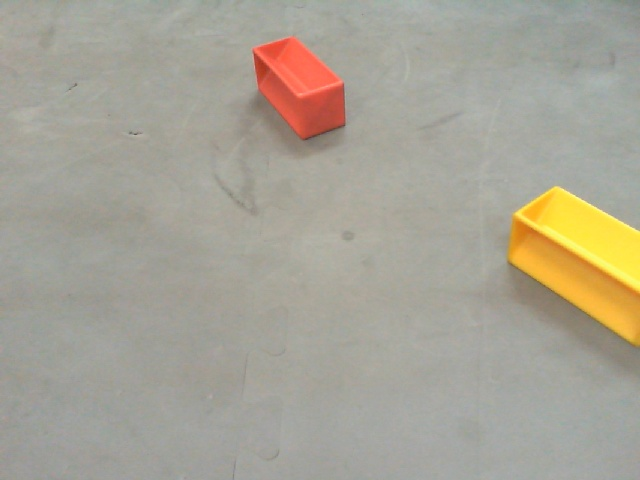RedSample: (250, 35, 347, 143)
YellowSample: (507, 185, 640, 345)
